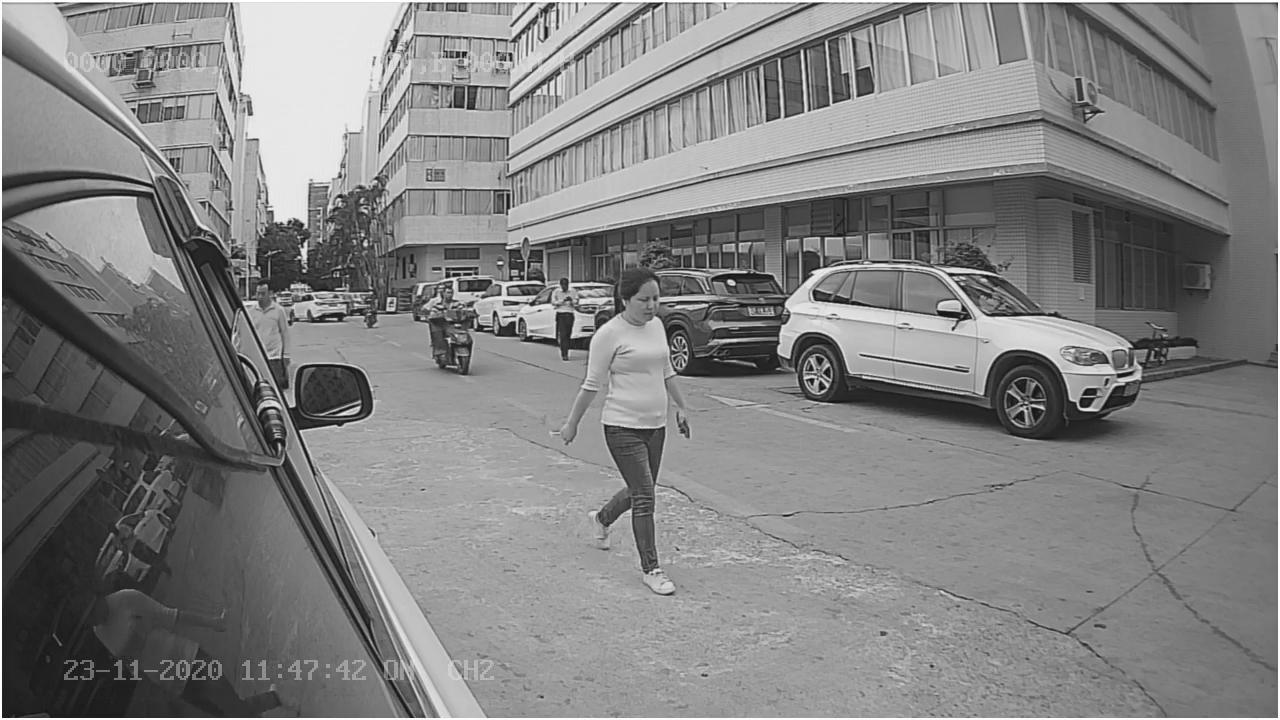person: (567, 270, 716, 604)
